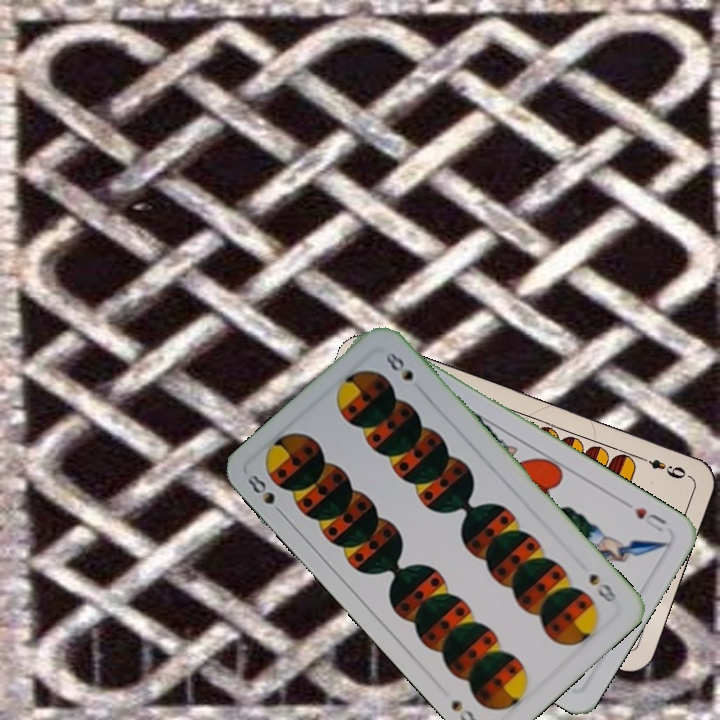E9: (634, 451, 691, 482)
HU: (620, 497, 670, 534)
S8: (240, 470, 288, 520), (585, 569, 620, 605)
